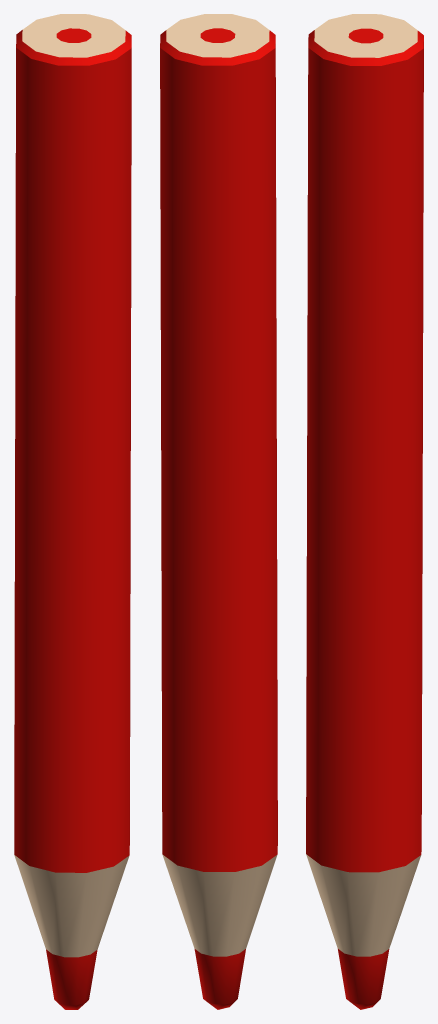
File: Pencil.glb
3 renders of one model, left to right at view 1: azimuth 30°, elevation 25°; view 2: azimuth 150°, elevation 25°; view 3: azimuth 330°, elevation 25°, orthographic.
Visible parts, largest first — view 1: Pencil.005; view 2: Pencil.005; view 3: Pencil.005.
Part boxes in pixels (left/top/right/bottom): Pencil.005: left=14, top=14, right=131, bottom=1009; Pencil.005: left=160, top=14, right=277, bottom=1009; Pencil.005: left=306, top=14, right=423, bottom=1009.
Bounding box in the file's own units: 0.0198 × 0.1793 × 0.0194.
2 materials, 1 textured.
